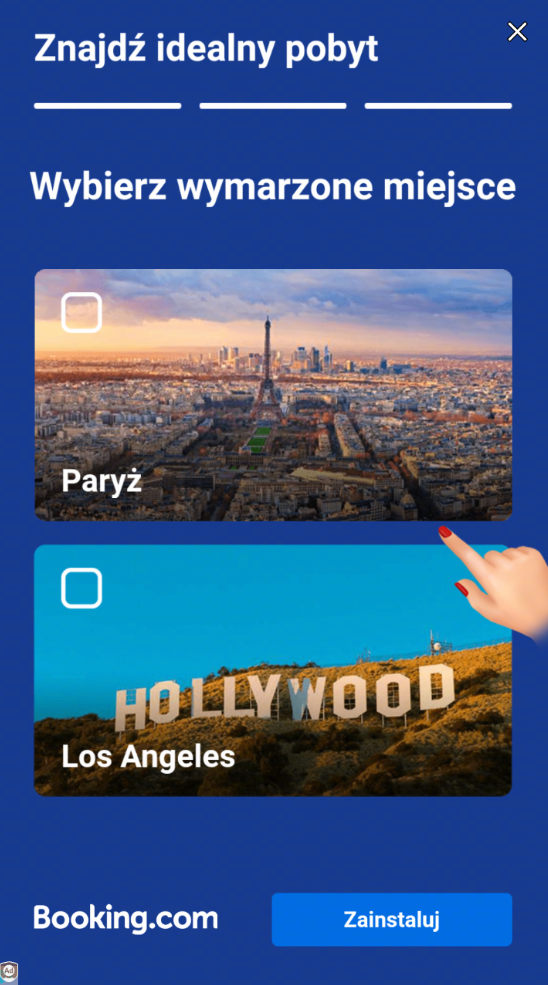close_button: (503, 16, 530, 47)
